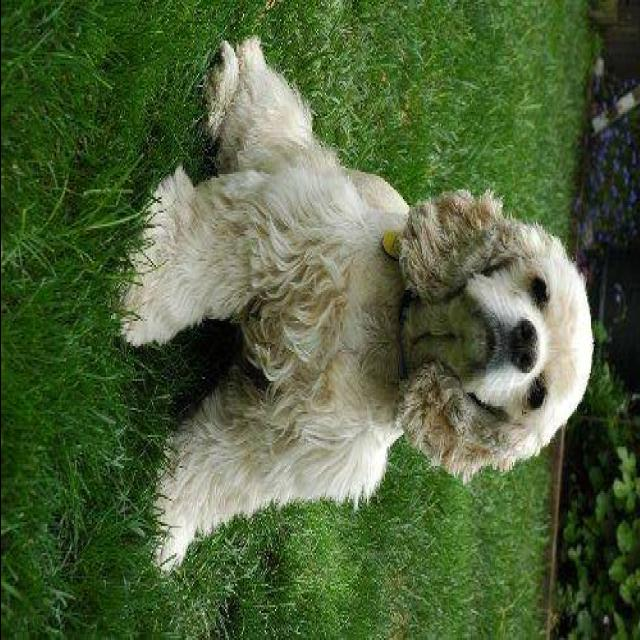dog: (86, 22, 608, 602)
